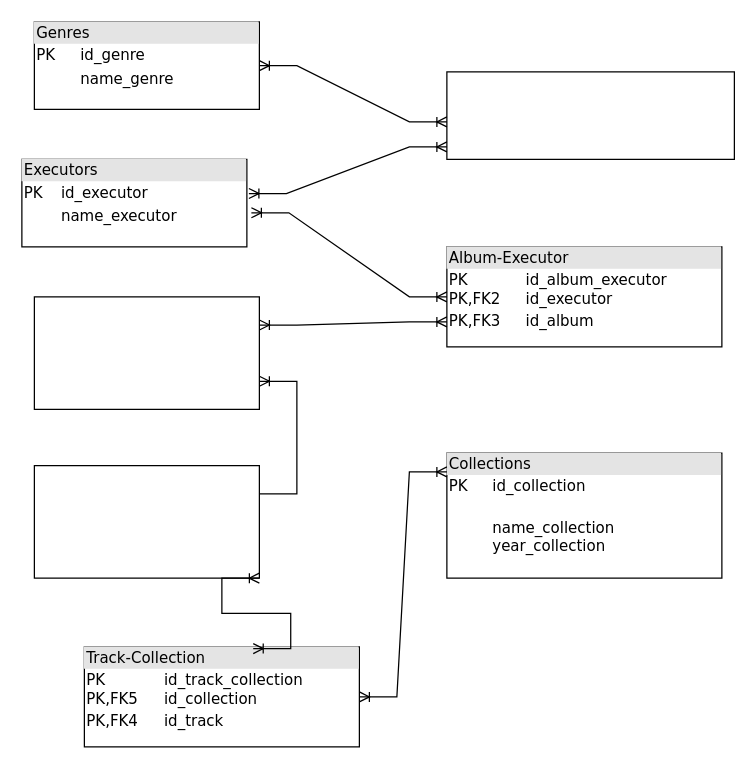
Image size: 756x769. Some labels were removed from this diagram. Here are the shapes that lost their labels. From the top down, the centre of each, then its label:
the point at 590,115: Genre-Executor PK PK,FK1 id_genre_executor id_genre PK,FK2 id_executor
the point at 146,352: Albums PK id_album name_album year_album
the point at 146,521: Tracks PK id_track name_track duration_min FK3 id_album
